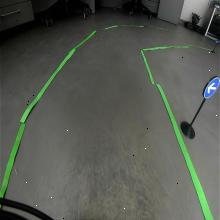left: (202, 73, 220, 99)
